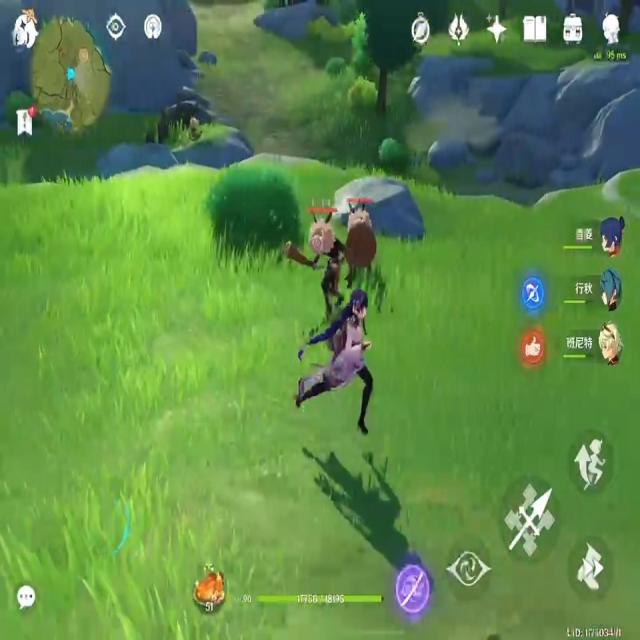genshin-hilichurls: (288, 204, 351, 292), (334, 186, 376, 284)
